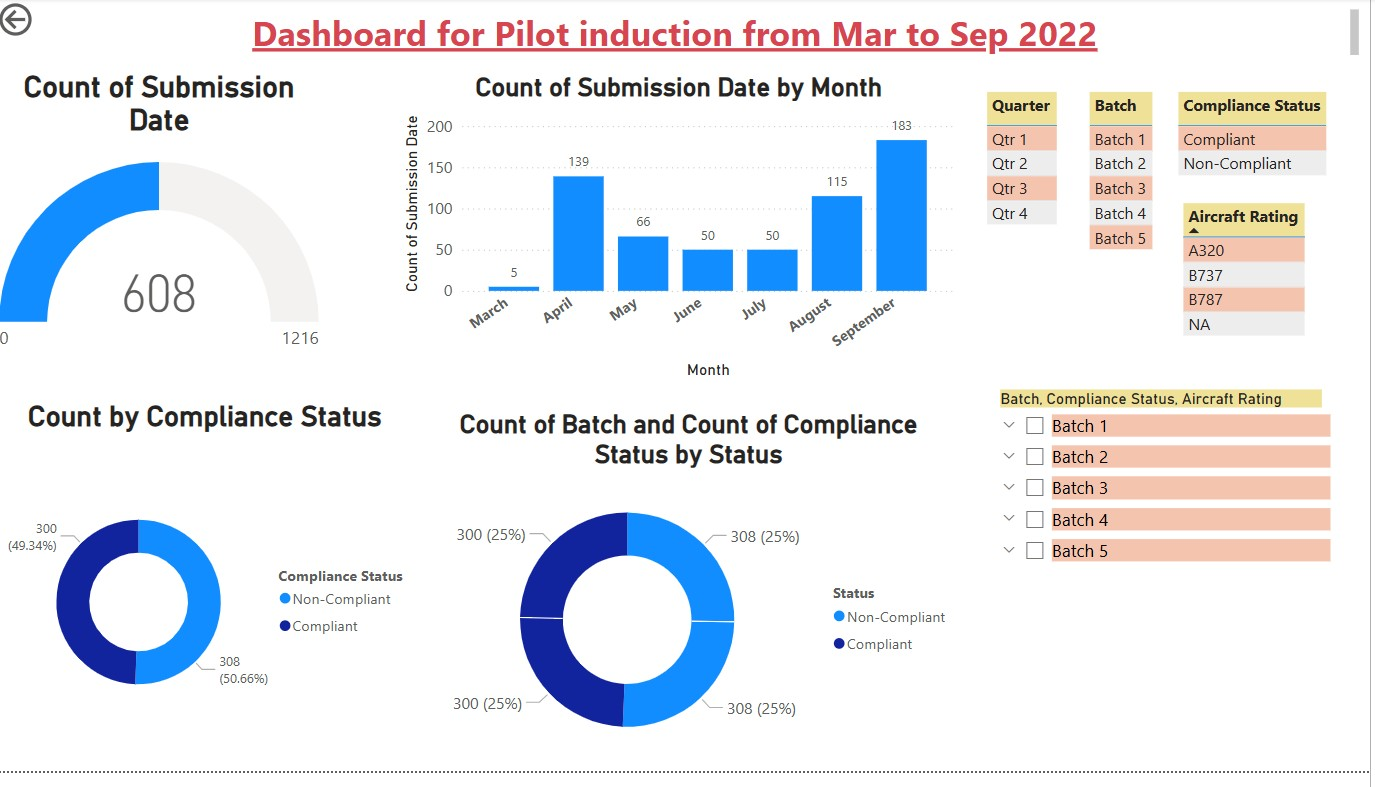

The dashboard page shown, as its layout file describes it:
{"tool":"powerbi","page":{"name":"Page 1","canvas":[1280,720],"ordinal":0},"visuals":[{"type":"donutChart","fields":{"Category":["export?format=csv&id=1RSt7JTLuaaMvQIgaXB1fvxA7Anrv1DO8XRaBTItq9nI&gid=177511 (2).Compliance Status"],"Y":["CountNonNull(export?format=csv&id=1RSt7JTLuaaMvQIgaXB1fvxA7Anrv1DO8XRaBTItq9nI&gid=177511 (2).Compliance Status)"]},"box":[0,373.2,392.5,347.2],"z":0},{"type":"columnChart","fields":{"Category":["export?format=csv&id=1RSt7JTLuaaMvQIgaXB1fvxA7Anrv1DO8XRaBTItq9nI&gid=177511 (2).Submission Date.Variation.Date Hierarch"],"Y":["CountNonNull(export?format=csv&id=1RSt7JTLuaaMvQIgaXB1fvxA7Anrv1DO8XRaBTItq9nI&gid=177511 (2).Submission Date)"]},"box":[376,68.6,522.8,290.9],"z":1000},{"type":"gauge","fields":{"Y":["CountNonNull(export?format=csv&id=1RSt7JTLuaaMvQIgaXB1fvxA7Anrv1DO8XRaBTItq9nI&gid=177511 (2).Submission Date)"]},"box":[0,65.9,307.4,290.9],"z":2000},{"type":"tableEx","fields":{"Values":["export?format=csv&id=1RSt7JTLuaaMvQIgaXB1fvxA7Anrv1DO8XRaBTItq9nI&gid=177511 (2).Compliance Status"]},"box":[1095,82.9,174.3,104.3],"z":3000},{"type":"slicer","fields":{"Values":["export?format=csv&id=1RSt7JTLuaaMvQIgaXB1fvxA7Anrv1DO8XRaBTItq9nI&gid=177511 (2).Batch","export?format=csv&id=1RSt7JTLuaaMvQIgaXB1fvxA7Anrv1DO8XRaBTItq9nI&gid=177511 (2).Compliance Status","export?format=csv&id=1RSt7JTLuaaMvQIgaXB1fvxA7Anrv1DO8XRaBTItq9nI&gid=177511 (2).Aircraft Rating"]},"box":[923.5,359.5,325.2,226.4],"z":4000},{"type":"tableEx","fields":{"Values":["export?format=csv&id=1RSt7JTLuaaMvQIgaXB1fvxA7Anrv1DO8XRaBTItq9nI&gid=177511 (2).Batch"]},"box":[1012.7,82.9,87.8,168.8],"z":5000},{"type":"donutChart","fields":{"Category":["export?format=csv&id=1RSt7JTLuaaMvQIgaXB1fvxA7Anrv1DO8XRaBTItq9nI&gid=177511 (2).Compliance Status"],"Y":["CountNonNull(export?format=csv&id=1RSt7JTLuaaMvQIgaXB1fvxA7Anrv1DO8XRaBTItq9nI&gid=177511 (2).Batch)","CountNonNull(export?format=csv&id=1RSt7JTLuaaMvQIgaXB1fvxA7Anrv1DO8XRaBTItq9nI&gid=177511 (2).Compliance Status)"]},"box":[392.5,382.8,506.3,337.6],"z":6000},{"type":"tableEx","fields":{"Values":["export?format=csv&id=1RSt7JTLuaaMvQIgaXB1fvxA7Anrv1DO8XRaBTItq9nI&gid=177511 (2).Submission Date.Variation.Date Hierarch"]},"box":[918,82.9,94.7,152.3],"z":7000},{"type":"textbox","box":[0,5.5,1274.8,60.4],"z":8000},{"type":"tableEx","fields":{"Values":["export?format=csv&id=1RSt7JTLuaaMvQIgaXB1fvxA7Anrv1DO8XRaBTItq9nI&gid=177511 (2).Aircraft Rating"]},"box":[1100.5,186.6,148.2,152.3],"z":9000},{"type":"actionButton","box":[0,0,100,40],"z":10000}]}

Visuals, with their boxes in screenshot pixels (x1, y1, x2, y2), scaled from the page's 1280x720 canvas onto the 1375x787 screenshot:
donutChart - export?format=csv&id=1RSt7JTLuaaMvQIgaXB1fvxA7Anrv1DO8XRaBTItq9nI&gid=177511 (2).Compliance Status x CountNonNull(export?format=csv&id=1RSt7JTLuaaMvQIgaXB1fvxA7Anrv1DO8XRaBTItq9nI&gid=177511 (2).Compliance Status): 0:408:422:786
columnChart - export?format=csv&id=1RSt7JTLuaaMvQIgaXB1fvxA7Anrv1DO8XRaBTItq9nI&gid=177511 (2).Submission Date.Variation.Date Hierarch x CountNonNull(export?format=csv&id=1RSt7JTLuaaMvQIgaXB1fvxA7Anrv1DO8XRaBTItq9nI&gid=177511 (2).Submission Date): 404:75:966:393
gauge - CountNonNull(export?format=csv&id=1RSt7JTLuaaMvQIgaXB1fvxA7Anrv1DO8XRaBTItq9nI&gid=177511 (2).Submission Date): 0:72:330:390
tableEx - export?format=csv&id=1RSt7JTLuaaMvQIgaXB1fvxA7Anrv1DO8XRaBTItq9nI&gid=177511 (2).Compliance Status: 1176:91:1364:205
slicer - export?format=csv&id=1RSt7JTLuaaMvQIgaXB1fvxA7Anrv1DO8XRaBTItq9nI&gid=177511 (2).Batch x export?format=csv&id=1RSt7JTLuaaMvQIgaXB1fvxA7Anrv1DO8XRaBTItq9nI&gid=177511 (2).Compliance Status: 992:393:1341:640
tableEx - export?format=csv&id=1RSt7JTLuaaMvQIgaXB1fvxA7Anrv1DO8XRaBTItq9nI&gid=177511 (2).Batch: 1088:91:1182:275
donutChart - export?format=csv&id=1RSt7JTLuaaMvQIgaXB1fvxA7Anrv1DO8XRaBTItq9nI&gid=177511 (2).Compliance Status x CountNonNull(export?format=csv&id=1RSt7JTLuaaMvQIgaXB1fvxA7Anrv1DO8XRaBTItq9nI&gid=177511 (2).Batch): 422:418:966:786
tableEx - export?format=csv&id=1RSt7JTLuaaMvQIgaXB1fvxA7Anrv1DO8XRaBTItq9nI&gid=177511 (2).Submission Date.Variation.Date Hierarch: 986:91:1088:257
textbox: 0:6:1369:72
tableEx - export?format=csv&id=1RSt7JTLuaaMvQIgaXB1fvxA7Anrv1DO8XRaBTItq9nI&gid=177511 (2).Aircraft Rating: 1182:204:1341:370
actionButton: 0:0:107:44
